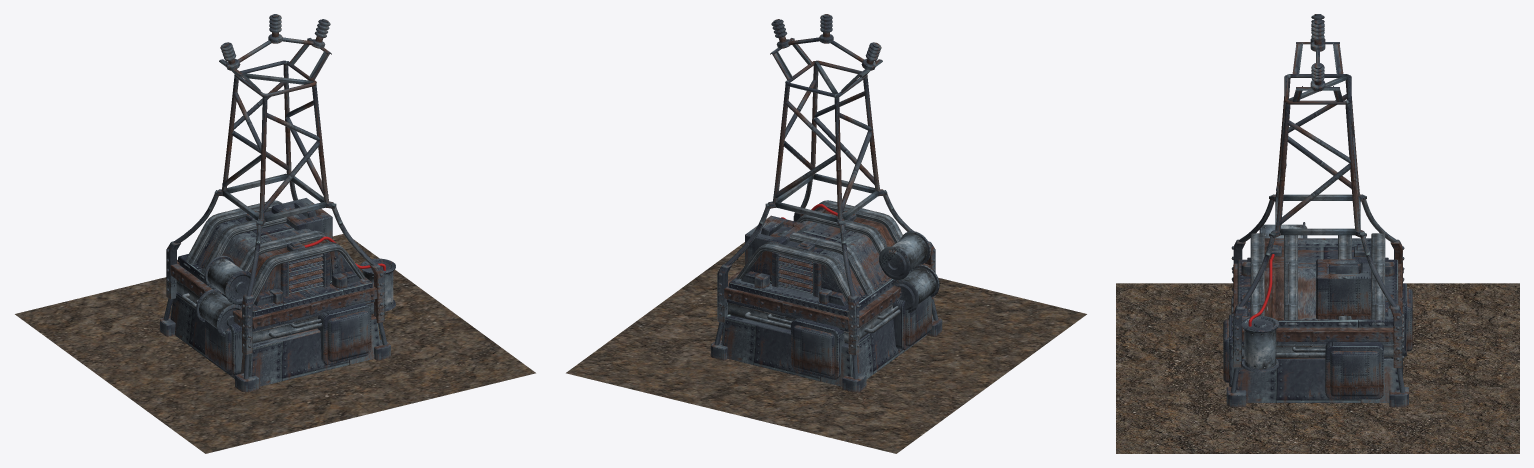
File: static.fbx
3 renders of one model, left to right at view 1: azimuth 30°, elevation 25°; view 2: azimuth 150°, elevation 25°; view 3: azimuth 270°, elevation 25°, orthographic. The views are drawn at different scales.
Visible parts, largest first — view 1: scorch, Boole_2, Sweep_12, Cube_1_11, Cube, Cube_2, Sweep_13, Sweep_16, Boole, Sweep_14, Cube_2_3, Extrude (+13 smaller); view 2: scorch, Boole_2, Sweep_12, Cube_1_11, Cube_3, Cube_2_4, Sweep_14, Sweep_15, Cylinder_1_2, Boole, Extrude_3, Cube_2_3 (+12 smaller); view 3: scorch, Boole_2, Sweep_12, Cube_1_11, Boole, Cube_4, Cube_2_5, Sweep_15, Sweep_16, Cylinder_8, Extrude_4, Sweep_11 (+11 smaller).
Part boxes in pixels (x1,y1,x2,y2): scorch: (15, 234, 535, 453); Boole_2: (170, 254, 380, 386); Sweep_12: (183, 200, 365, 305); Cube_1_11: (196, 210, 353, 293); Cube: (327, 310, 369, 361); Cube_2: (252, 286, 377, 328); Sweep_13: (243, 96, 267, 379); Sweep_16: (312, 84, 387, 345); Boole: (271, 198, 332, 239); Sweep_14: (163, 77, 238, 320); Cube_2_3: (205, 320, 231, 371); Extrude: (317, 303, 371, 364); scorch: (566, 242, 1086, 453); Boole_2: (721, 264, 926, 386); Sweep_12: (736, 200, 902, 306); Cube_1_11: (748, 209, 894, 298); Cube_3: (793, 325, 834, 376); Cube_2_4: (724, 286, 848, 328); Sweep_14: (834, 96, 858, 379); Sweep_15: (714, 84, 789, 345); Cylinder_1_2: (879, 231, 931, 279); Boole: (745, 215, 805, 265); Extrude_3: (791, 318, 844, 379); Cube_2_3: (905, 295, 931, 346); scorch: (1116, 283, 1519, 453); Boole_2: (1236, 259, 1402, 402); Sweep_12: (1250, 233, 1385, 324); Cube_1_11: (1264, 238, 1371, 317); Boole: (1316, 259, 1371, 319); Cube_4: (1330, 351, 1379, 396); Cube_2_5: (1242, 327, 1393, 341); Sweep_15: (1345, 102, 1405, 393); Sweep_16: (1230, 102, 1290, 393); Cylinder_8: (1244, 330, 1276, 369); Extrude_4: (1325, 342, 1383, 399); Sweep_11: (1284, 74, 1351, 104).
Bounding box in the file's own units: 893 × 867 × 893.
